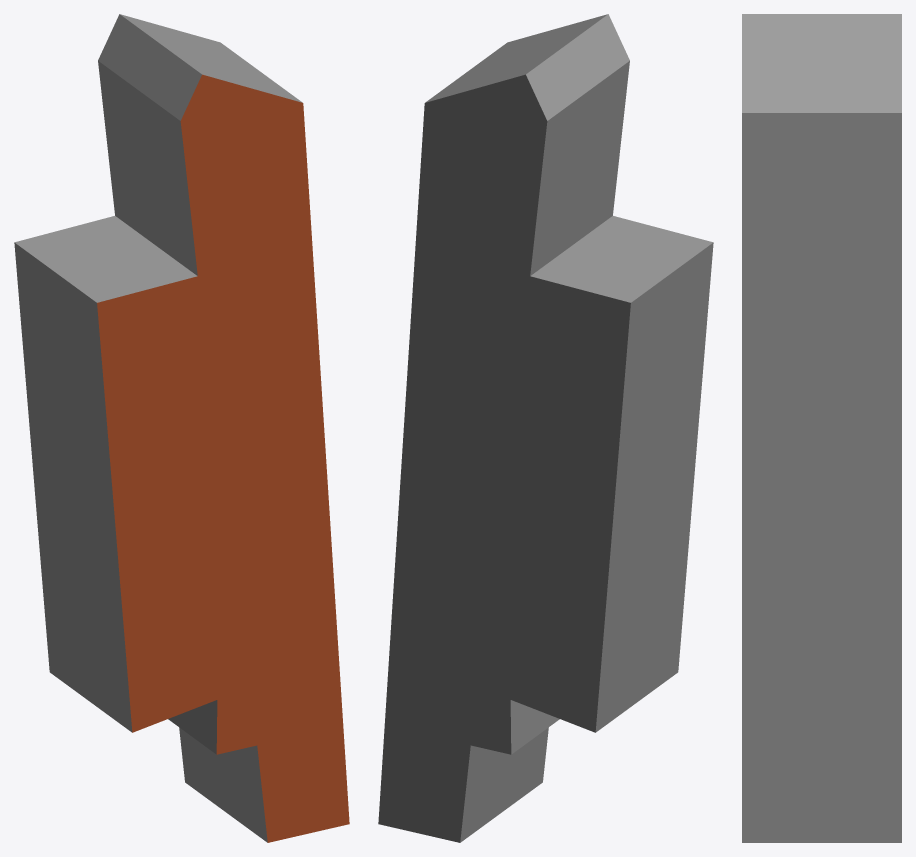
The model's file is construction_3918_assumed_A_Casa_h6m.obj.
3 renders of one model, left to right at view 1: azimuth 30°, elevation 25°; view 2: azimuth 150°, elevation 25°; view 3: azimuth 270°, elevation 25°, orthographic. The views are drawn at different scales.
Parts seen in each view (by area): view 1: construction_3918_assumed_A_Casa; view 2: construction_3918_assumed_A_Casa; view 3: construction_3918_assumed_A_Casa.
Part boxes in pixels (<box>): construction_3918_assumed_A_Casa: <box>14,14,349,842</box>; construction_3918_assumed_A_Casa: <box>378,14,713,842</box>; construction_3918_assumed_A_Casa: <box>742,14,901,842</box>.
Bounding box in the file's own units: 10.58 × 31.44 × 6.
